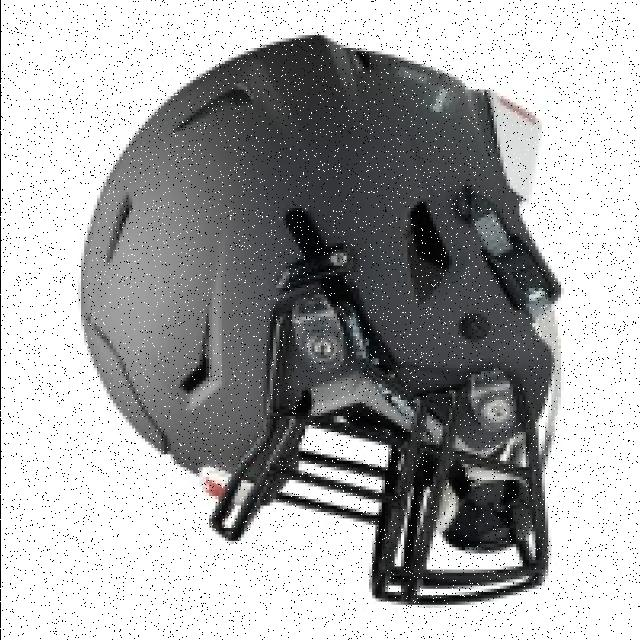Helmet: (80, 36, 558, 605)
